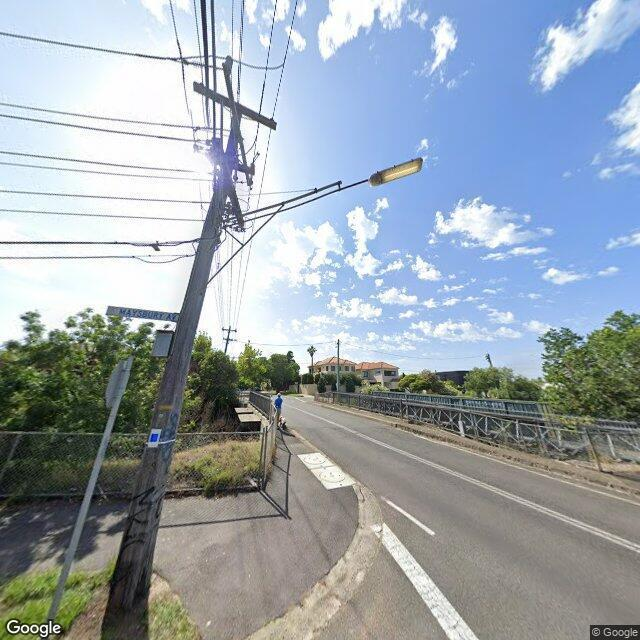HV-transmission: (223, 55, 255, 180), (200, 81, 275, 122), (222, 324, 238, 331)
crossarm: (193, 82, 277, 130), (221, 64, 253, 186), (212, 138, 244, 228), (193, 144, 254, 173), (223, 338, 237, 342), (222, 329, 236, 332)
streetlight: (220, 157, 423, 229)
timber-pole: (105, 115, 242, 618), (336, 339, 339, 402), (225, 326, 231, 354)
